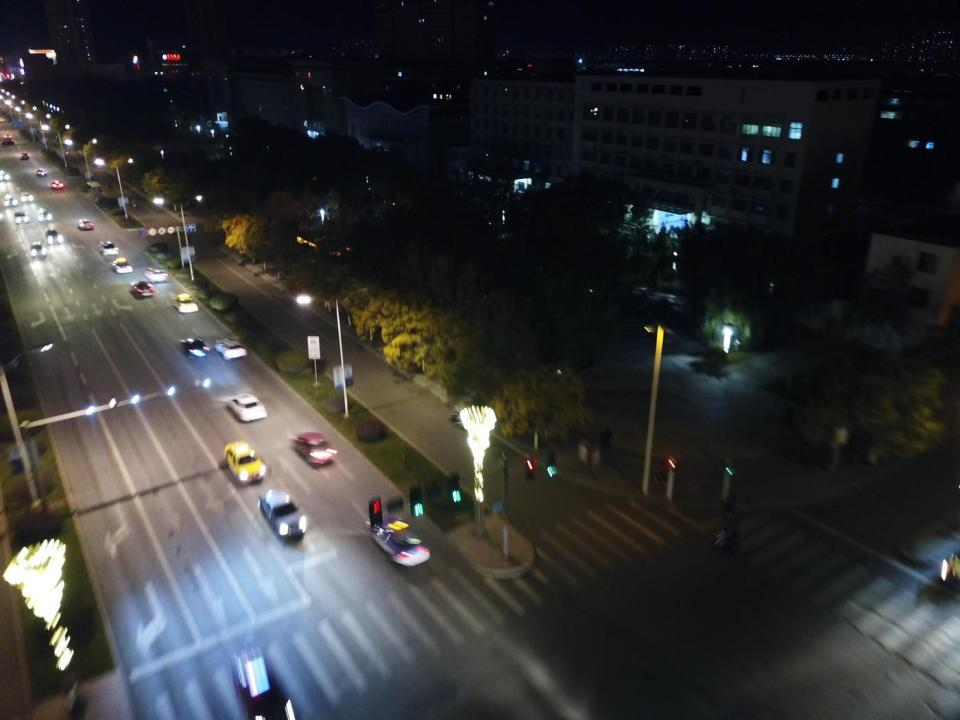car: (232, 650, 296, 720), (366, 514, 430, 566), (260, 490, 306, 540), (224, 440, 266, 485), (290, 430, 336, 468), (231, 392, 266, 422), (216, 336, 248, 359), (183, 336, 209, 358), (174, 293, 198, 315), (132, 279, 155, 298), (112, 256, 133, 273), (145, 266, 166, 282), (98, 240, 120, 255), (44, 228, 64, 244), (30, 241, 46, 258), (77, 219, 95, 232), (37, 208, 53, 221), (15, 211, 28, 224), (0, 170, 11, 182), (20, 192, 33, 202), (4, 195, 17, 205), (52, 179, 65, 188), (37, 168, 47, 178), (20, 152, 30, 160), (2, 141, 15, 146), (4, 134, 12, 138), (57, 137, 62, 142), (0, 116, 4, 122)
